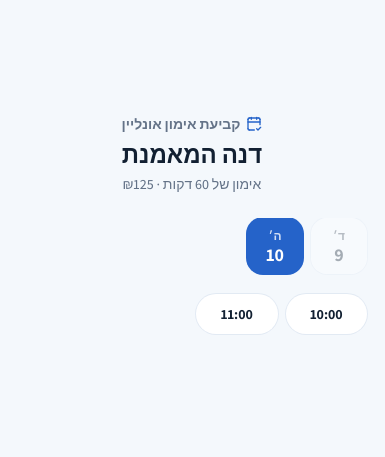
BookPage public booking journey › submits the selected slot, name and phone and shows success
Click the button "10:00" at (326, 314), box [286,294,367,334]
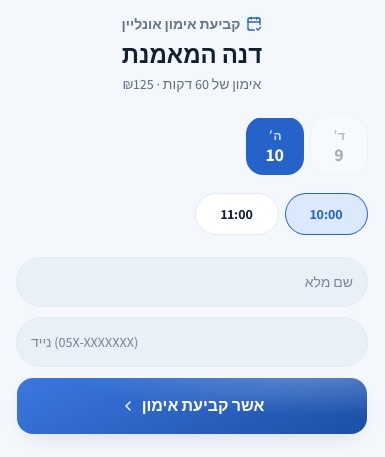
Type "יוסי כהן" into the field with placeholder "שם מלא" at (192, 282), box [17,258,367,306]
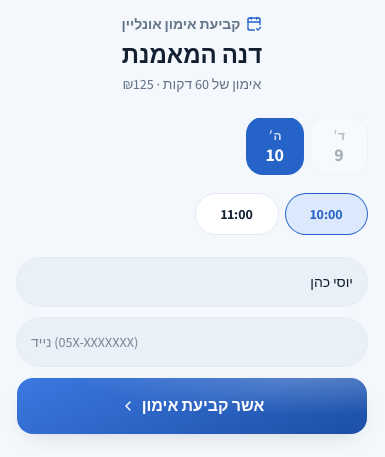
Type "050-1234567" into the field with placeholder "נייד (05X-XXXXXXX)" at (192, 342), box [17,318,367,366]
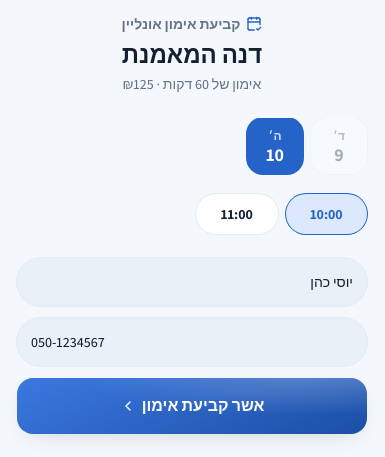
Click the button "אשר קביעת אימון" at (192, 406), box [17,378,367,434]
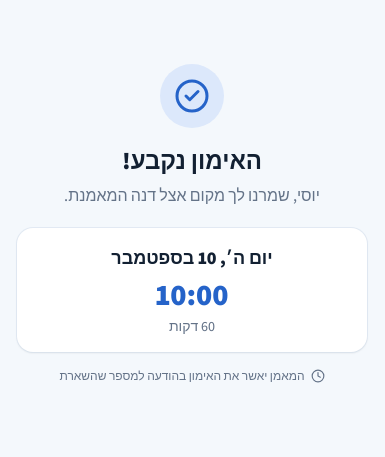
Expected: the text "10:00" is shown, [156,274,228,314]
Expected: the heading "האימון נקבע!" is shown, [122,144,262,176]
